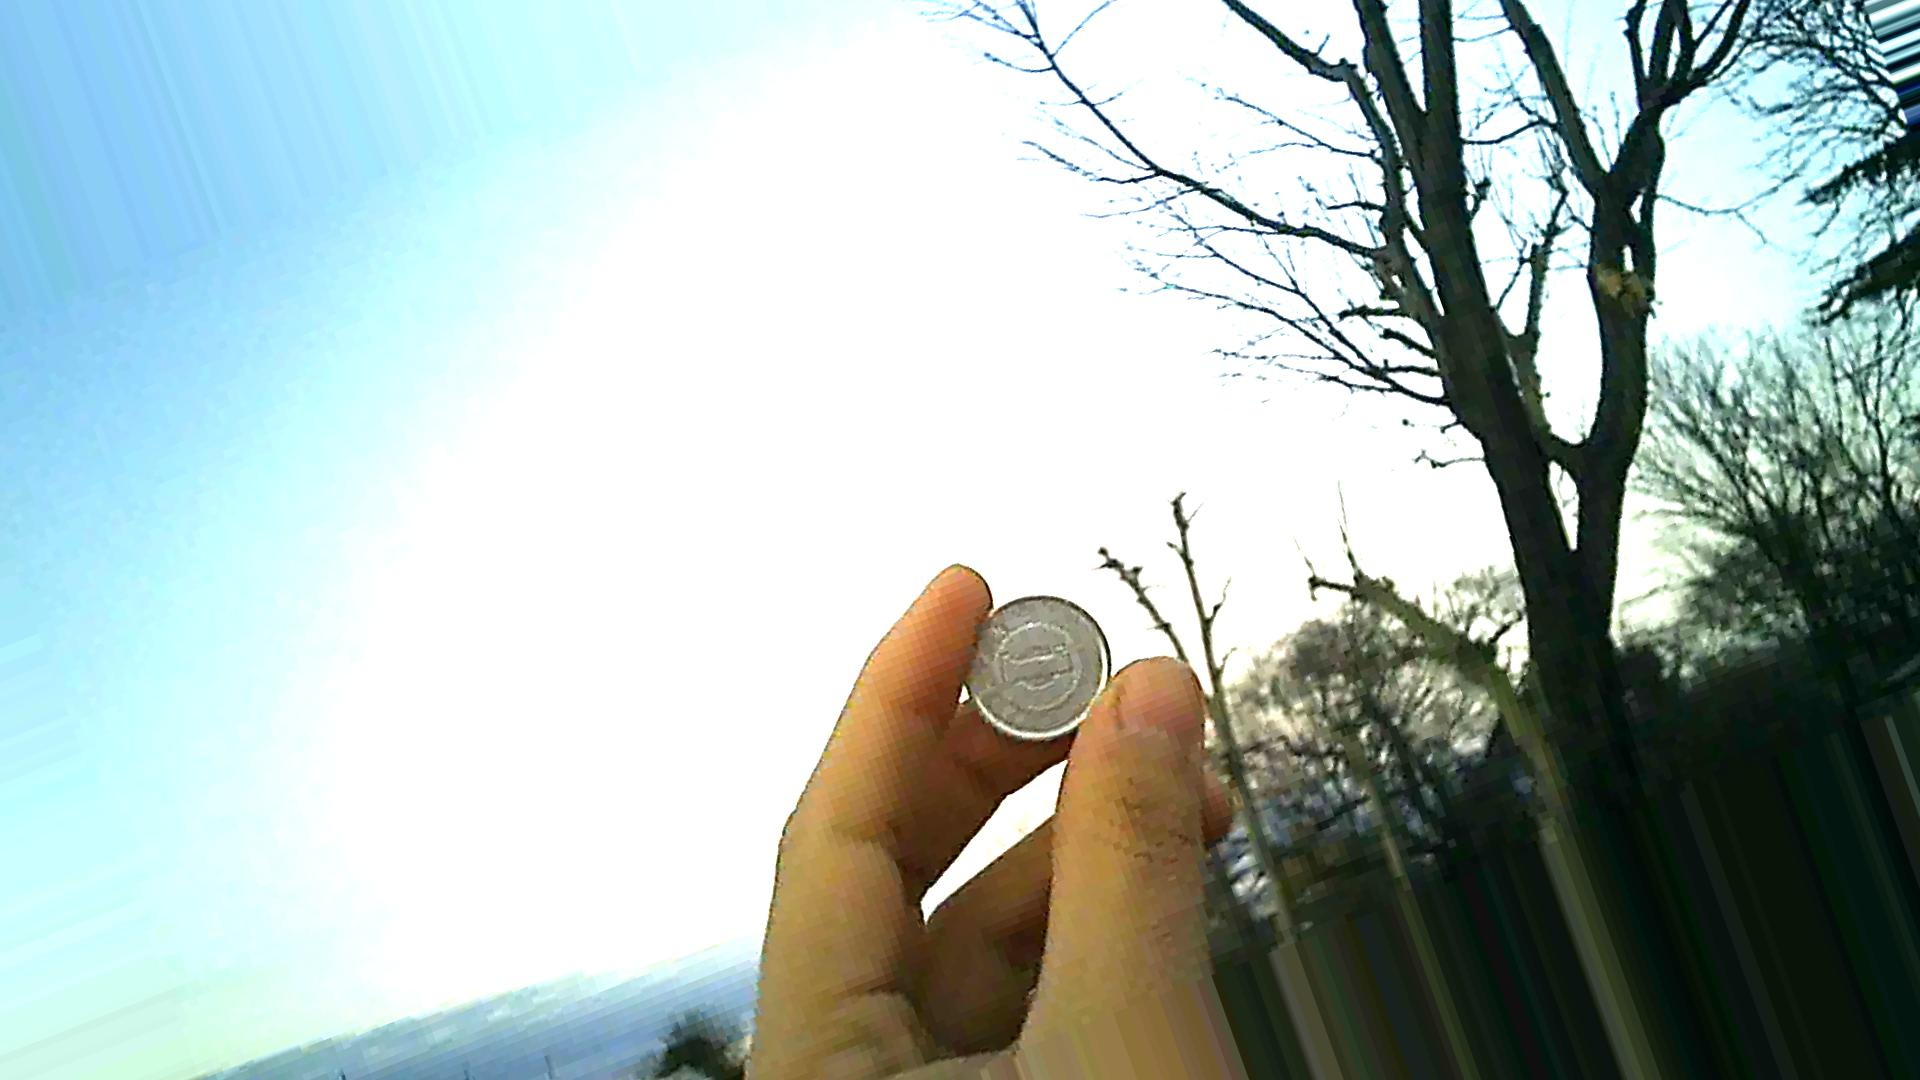1 Yen: (964, 593, 1118, 758)
